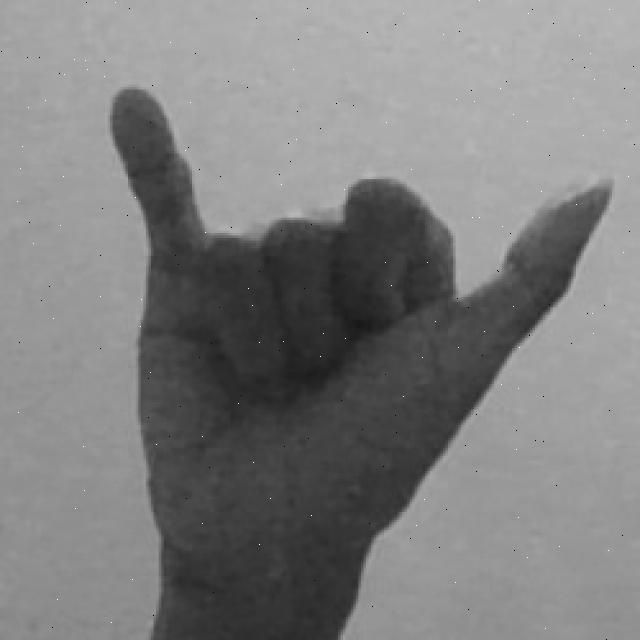Y: (98, 74, 620, 640)
